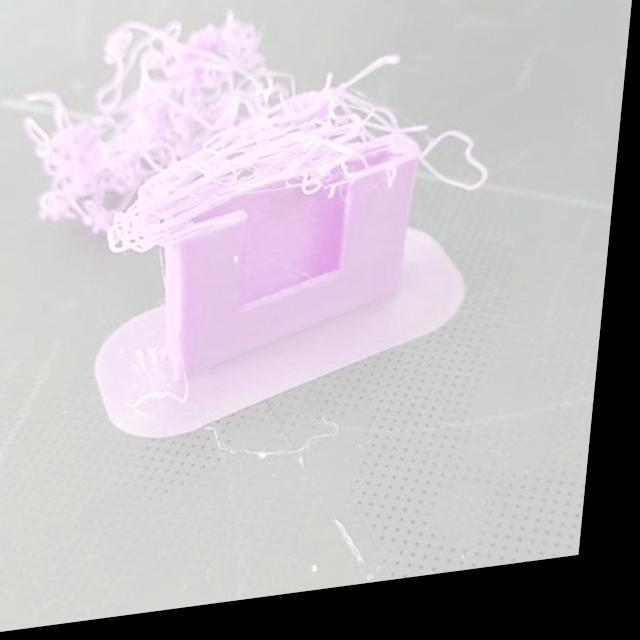spaghetti: (13, 0, 510, 271)
